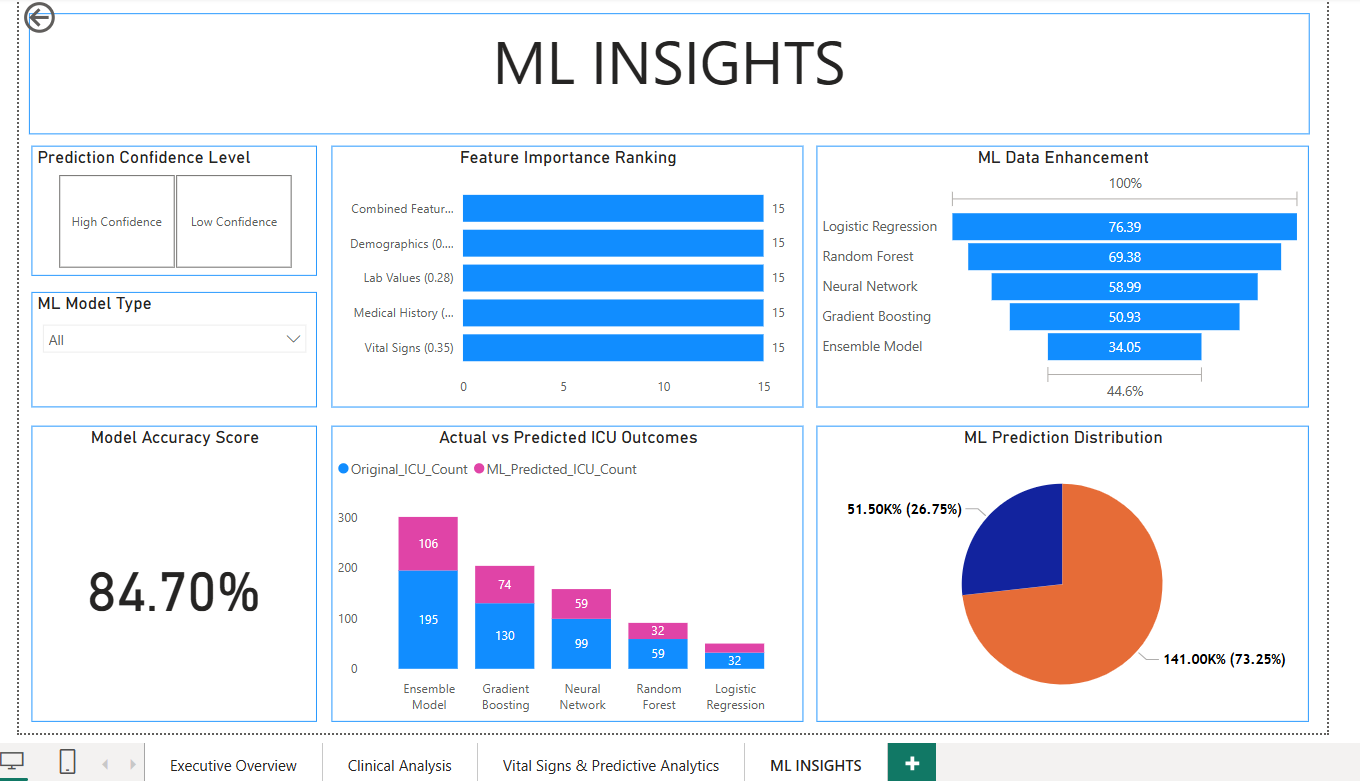

This screenshot's page, from the dashboard's own definition file:
{"tool":"powerbi","page":{"name":"ML INSIGHTS","canvas":[1280,720],"ordinal":3},"visuals":[{"type":"slicer","title":"Prediction Confidence Level","fields":{"Values":["Outcome.Prediction_Confidence"]},"box":[11.8,145.6,279.4,127.2],"z":0},{"type":"slicer","title":"ML Model Type","fields":{"Values":["Outcome.ML_Model_Type"]},"box":[11.8,288.6,279.4,112.8],"z":1000},{"type":"card","title":"Model Accuracy Score","fields":{"Values":["Measure Table_3.Model_Accuracy"]},"box":[11.8,419.8,279.4,289.9],"z":2000},{"type":"funnel","title":"ML Data Enhancement","fields":{"Y":["Measure Table_3.ML_Improvement"],"Category":["Outcome.ML_Model_Type"]},"box":[780.5,145.6,481.4,255.8],"z":3000},{"type":"columnChart","title":"Actual vs Predicted ICU Outcomes","fields":{"Category":["Outcome.ML_Model_Type"],"Y":["Measure Table_3.Original_ICU_Count","Measure Table_3.ML_Predicted_ICU_Count"]},"box":[305.6,419.8,461.7,289.9],"z":4000},{"type":"barChart","title":"Feature Importance Ranking","fields":{"Category":["Outcome.Feature_Importance"],"Y":["Measure Table_3.Importance_Value"]},"box":[305.6,145.6,461.7,255.8],"z":5000},{"type":"textbox","box":[9.2,15.7,1252.7,118.1],"z":6000},{"type":"actionButton","box":[0,0,100,40],"z":7000},{"type":"pieChart","title":"ML Prediction Distribution","fields":{"Y":["Measure Table_3.Count"],"Category":["Outcome.Prediction_Confidence"]},"box":[780.5,419.8,481.4,289.9],"z":8000}]}

Visuals, with their boxes on the page's 1280x720 design canvas (x1, y1, x2, y2). These are canvas units, not pixel positions in the 1360x781 screenshot, which may show the page scaled, cropped or inside an application window:
"Prediction Confidence Level" slicer: [left=12, top=146, right=291, bottom=273]
"ML Model Type" slicer: [left=12, top=289, right=291, bottom=401]
"Model Accuracy Score" card: [left=12, top=420, right=291, bottom=710]
"ML Data Enhancement" funnel: [left=780, top=146, right=1262, bottom=401]
"Actual vs Predicted ICU Outcomes" columnChart: [left=306, top=420, right=767, bottom=710]
"Feature Importance Ranking" barChart: [left=306, top=146, right=767, bottom=401]
textbox: [left=9, top=16, right=1262, bottom=134]
actionButton: [left=0, top=0, right=100, bottom=40]
"ML Prediction Distribution" pieChart: [left=780, top=420, right=1262, bottom=710]
